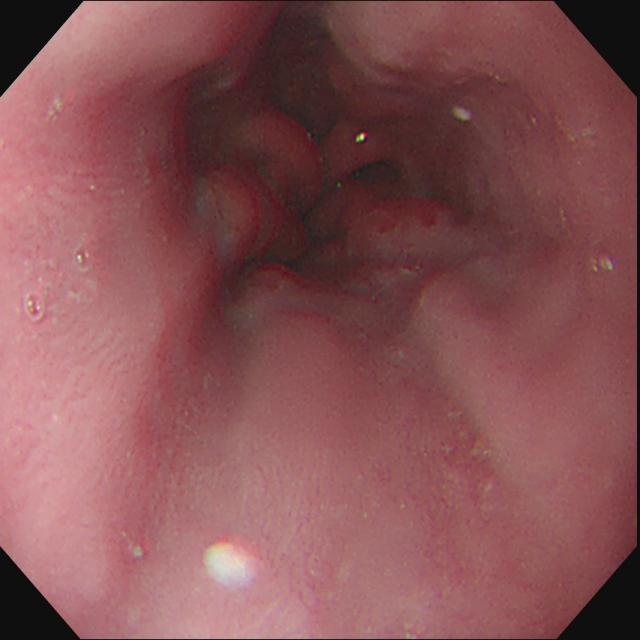I: (183, 35, 470, 284)
J: (203, 543, 269, 592)
U: (356, 132, 367, 143)
